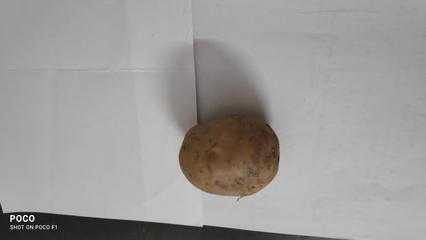potato: (178, 109, 282, 188)
